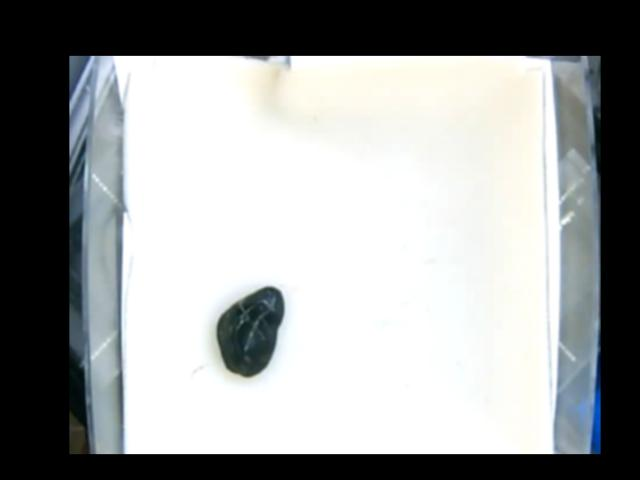Pebble: (215, 284, 285, 377)
